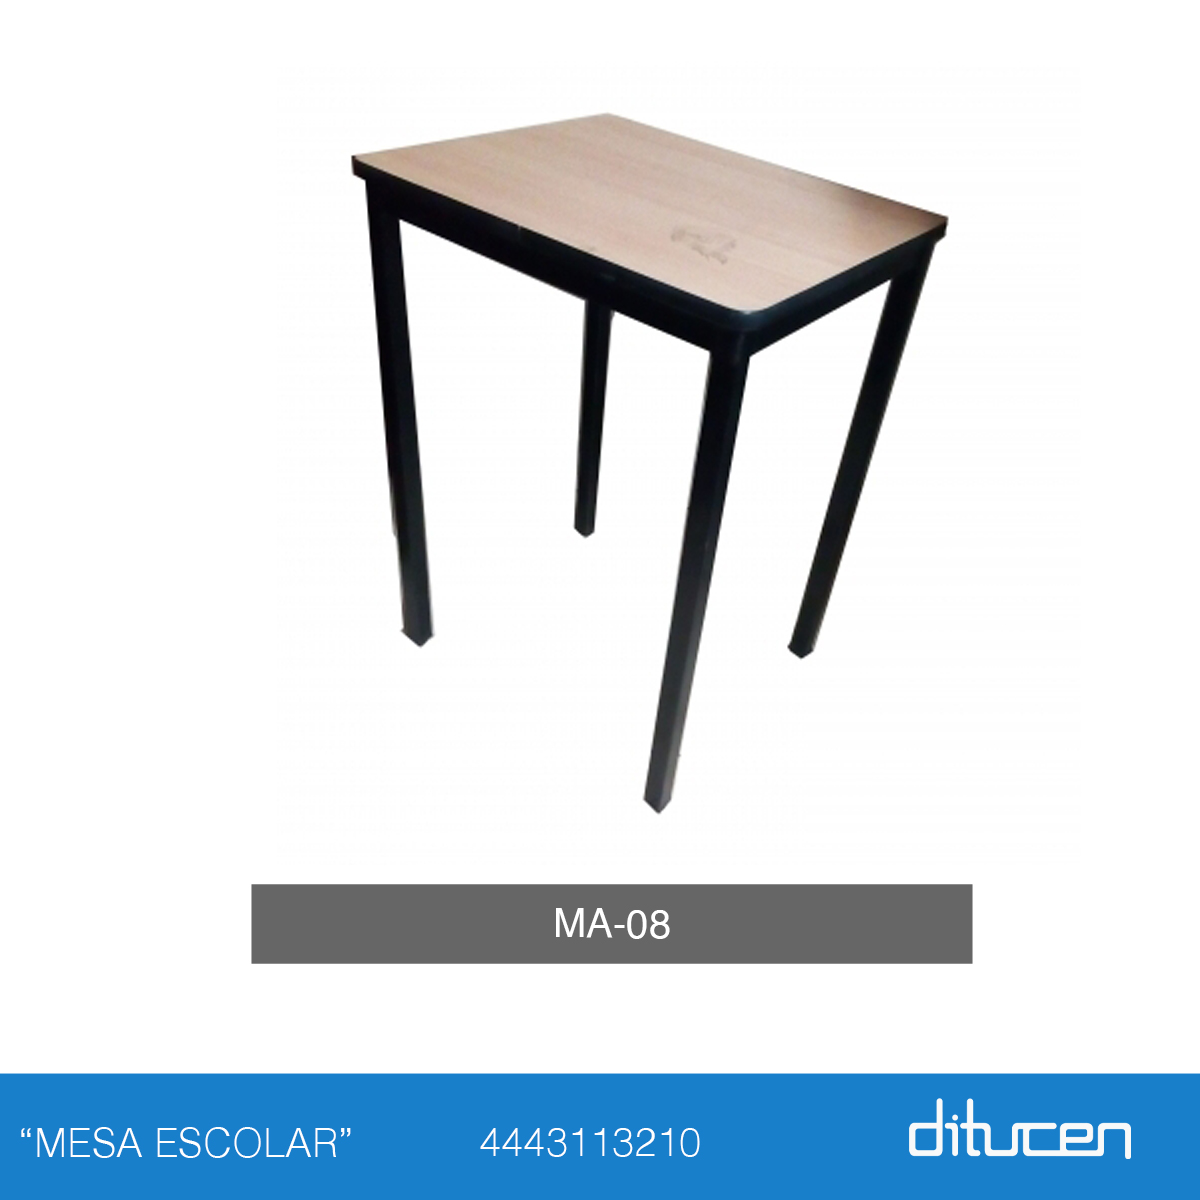m01: (349, 110, 949, 813)
